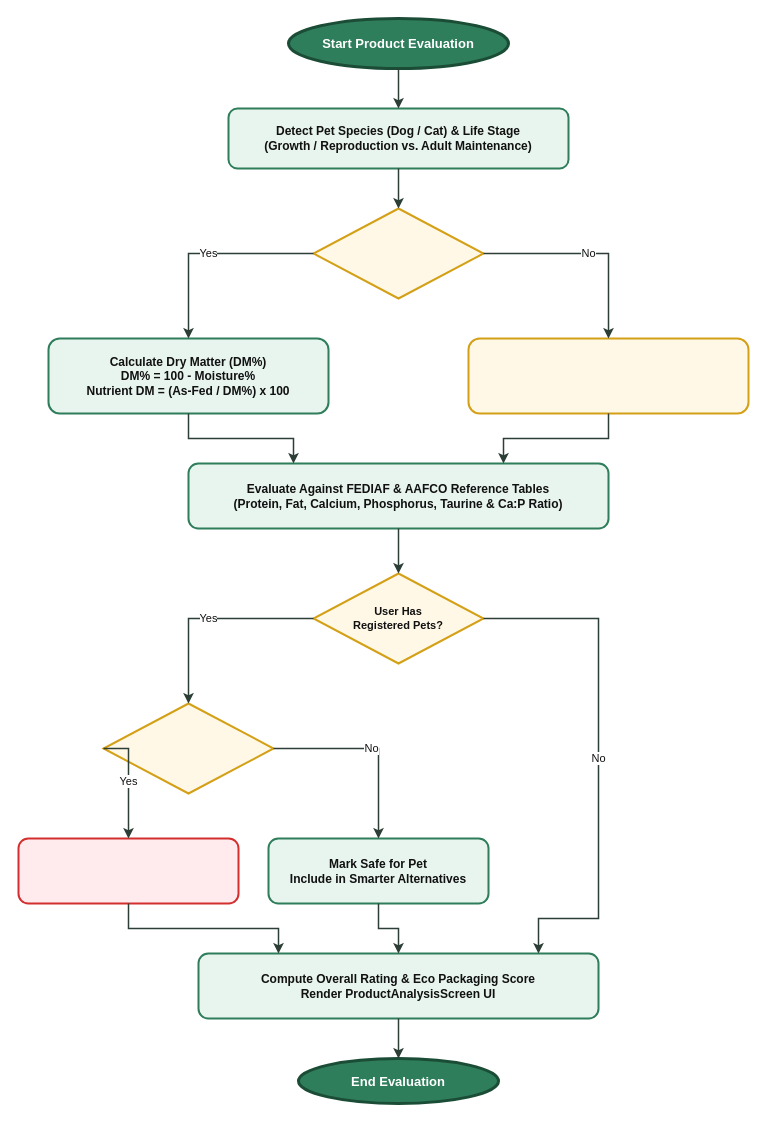
Image size: 766x1122. Some labels were removed from this diagram. The shapes that lost their labels are listed below. From the top down, each one's box as (x1, y1, x2, y2) in pixels, then its label:
(312, 207, 484, 299): Moisture % Listed?
(467, 337, 749, 414): Flag Missing Moisture Use As-Fed Values & Show Note
(102, 702, 274, 794): Ingredient Matches Pet Allergy?
(17, 837, 239, 904): Trigger Red Glow Alert '[Pet] is allergic to [Item]'
